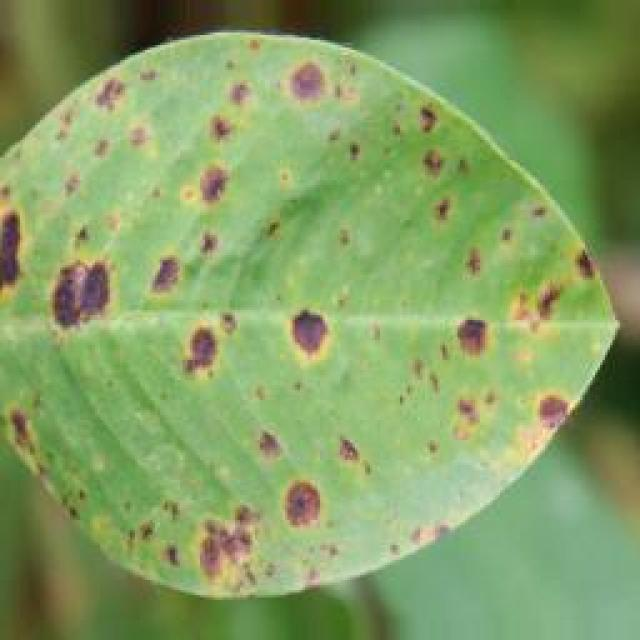Yellowish: (0, 29, 600, 583)
